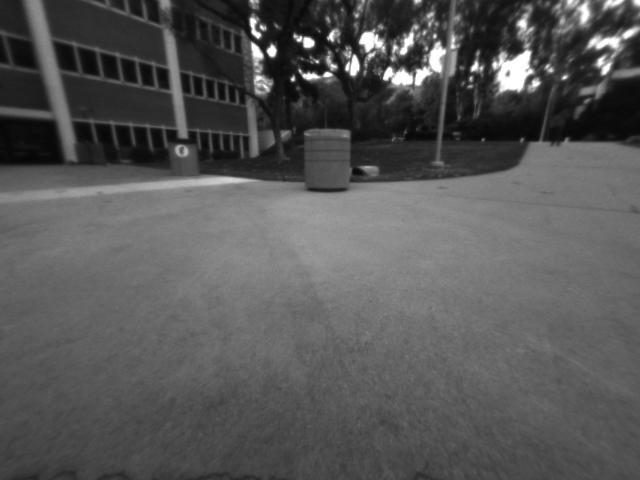trashcan: (297, 124, 355, 199), (161, 132, 204, 182)
